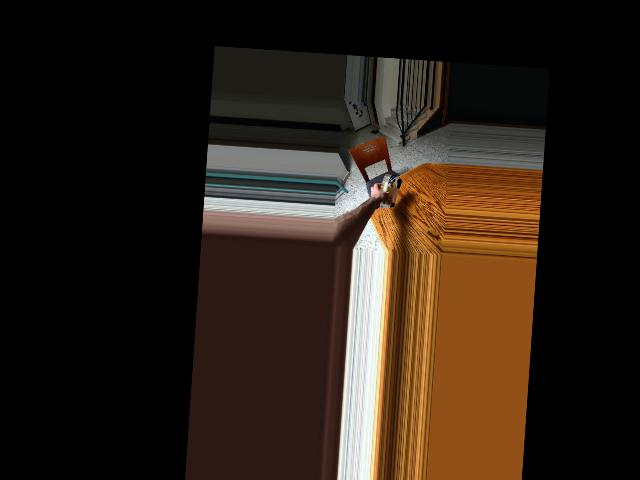cheese: (377, 174, 402, 209)
